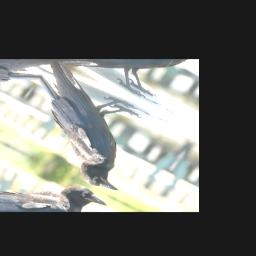Crow: (0, 60, 172, 196)
